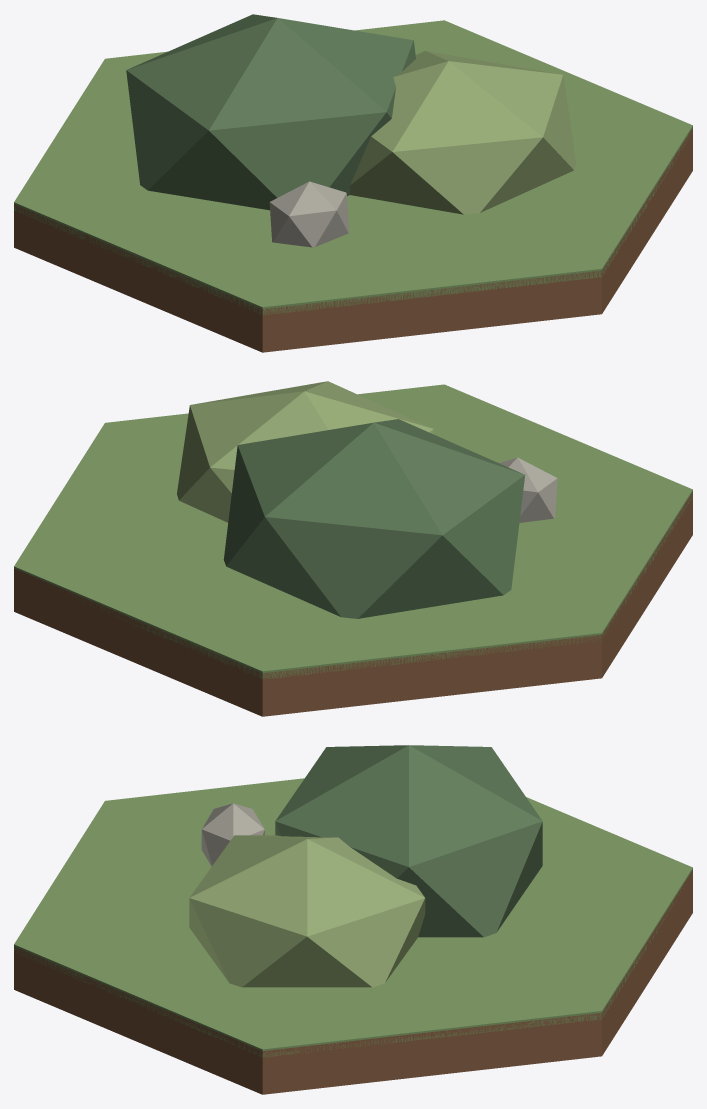
The model's file is hill.glb.
3 views of the same model, one above another, from view 1: azimuth 30°, elevation 25°; view 2: azimuth 150°, elevation 25°; view 3: azimuth 270°, elevation 25° (orthographic).
Parts seen in each view (by area): view 1: Cone.044, Icosphere.034, Cone.043, Icosphere.035, Icosphere.036; view 2: Cone.044, Icosphere.034, Cone.043, Icosphere.035, Icosphere.036; view 3: Cone.044, Icosphere.034, Cone.043, Icosphere.035, Icosphere.036.
Part boxes in pixels (box(x1,y1,x2,y2)): Cone.044: box(14, 20, 692, 315); Icosphere.034: box(126, 14, 415, 210); Cone.043: box(14, 127, 692, 352); Icosphere.035: box(350, 51, 576, 214); Icosphere.036: box(269, 181, 349, 247); Cone.044: box(14, 384, 692, 679); Icosphere.034: box(223, 419, 525, 618); Cone.043: box(14, 492, 692, 716); Icosphere.035: box(177, 381, 433, 522); Icosphere.036: box(499, 457, 557, 522); Cone.044: box(14, 778, 692, 1057); Icosphere.034: box(275, 745, 542, 937); Cone.043: box(14, 870, 692, 1094); Icosphere.035: box(189, 835, 425, 987); Icosphere.036: box(201, 803, 264, 866).
Size of the model in its own units: 3.67 by 1.2 by 3.67.
